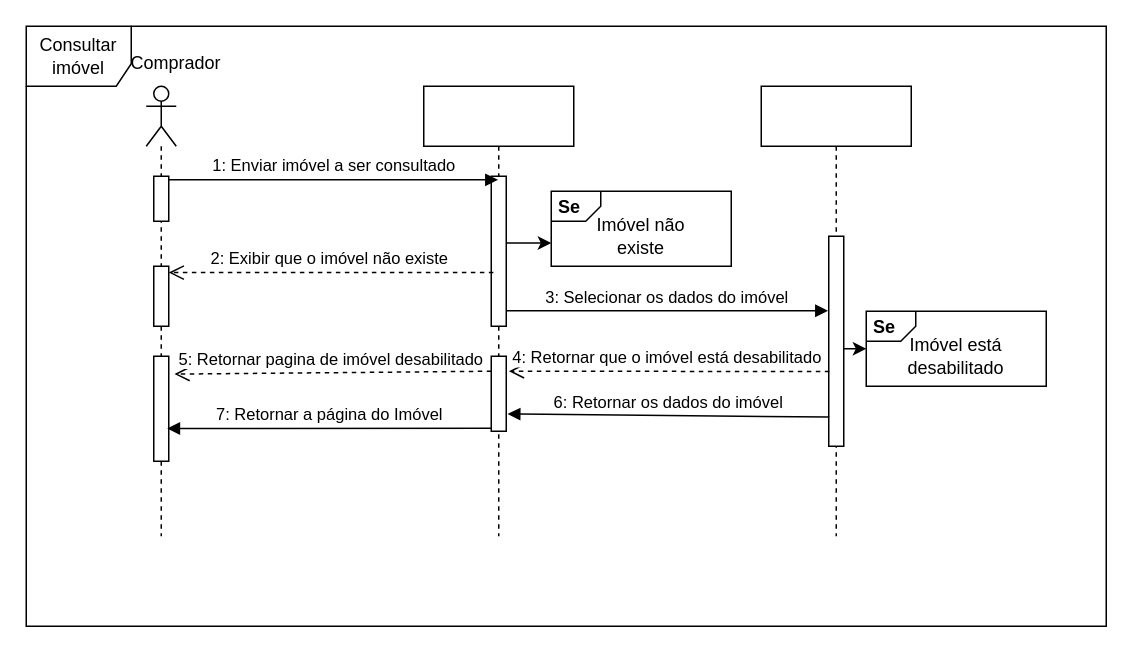
The diagram is 1133 pixels wide and 653 high, and some of its shapes have lost their labels. The box of each missing label's shape, as (x1, y1, x2, y2) in pixels:
Base de dados: (760, 85, 911, 536)
Sistema: (422, 85, 574, 536)
